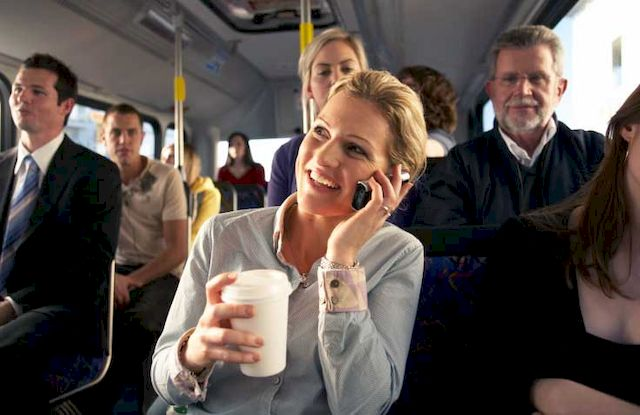phone: (352, 164, 421, 216)
talk: (294, 114, 419, 255)
